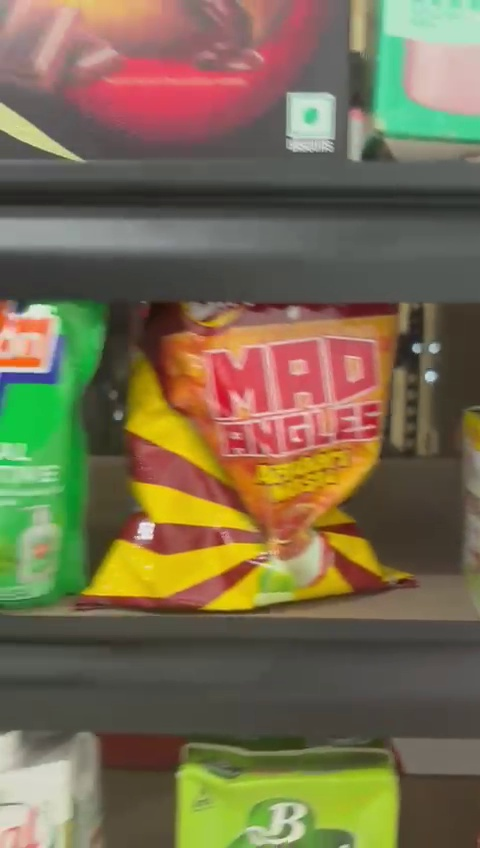Bingo Mad Angles: (114, 293, 423, 596)
